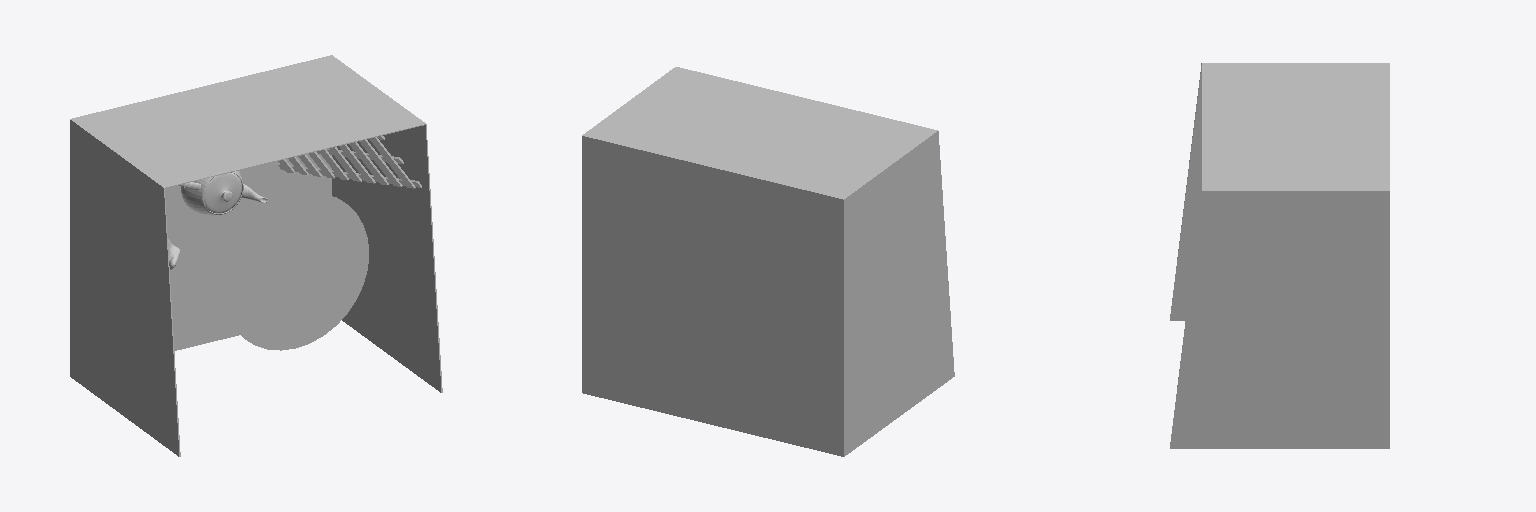
The model's file is scene_example.obj.
3 views of the same model, side by side, from view 1: azimuth 30°, elevation 25°; view 2: azimuth 150°, elevation 25°; view 3: azimuth 270°, elevation 25° (orthographic).
Visible parts, largest first — view 1: Cube, Light_Cone.001, trap, Teapot; view 2: Cube; view 3: Cube.
Part boxes in pixels (x1,y1,x2,y2): Cube: (70,55,442,456); Light_Cone.001: (222,193,368,350); trap: (278,136,421,188); Teapot: (179,170,267,215); Cube: (582,67,954,456); Cube: (1170,63,1389,448).
Size of the model in its own units: 9.94 by 9.29 by 7.21.